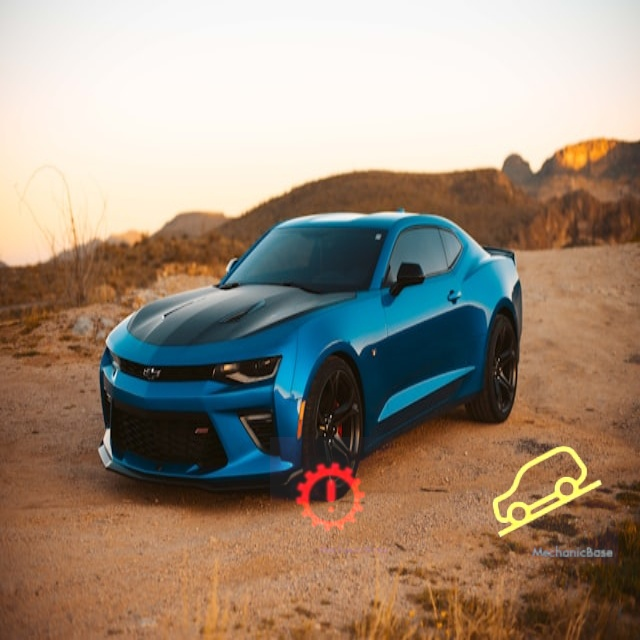symbol: (477, 423, 618, 564), (270, 437, 393, 560)
